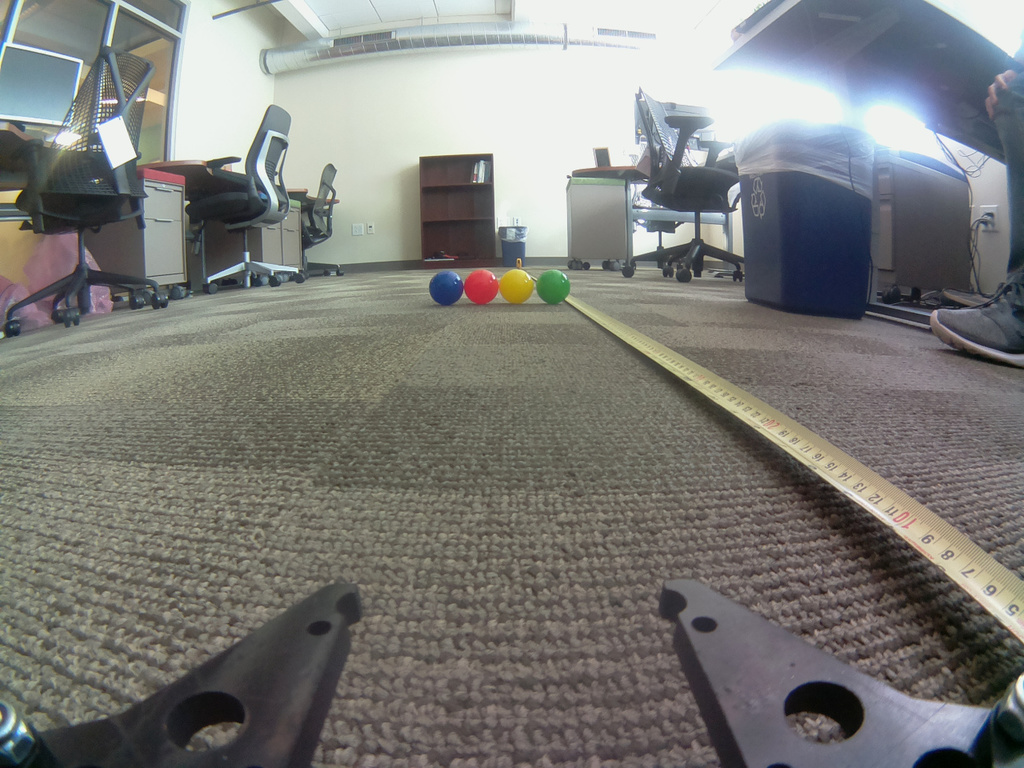ball: (464, 268, 497, 306)
